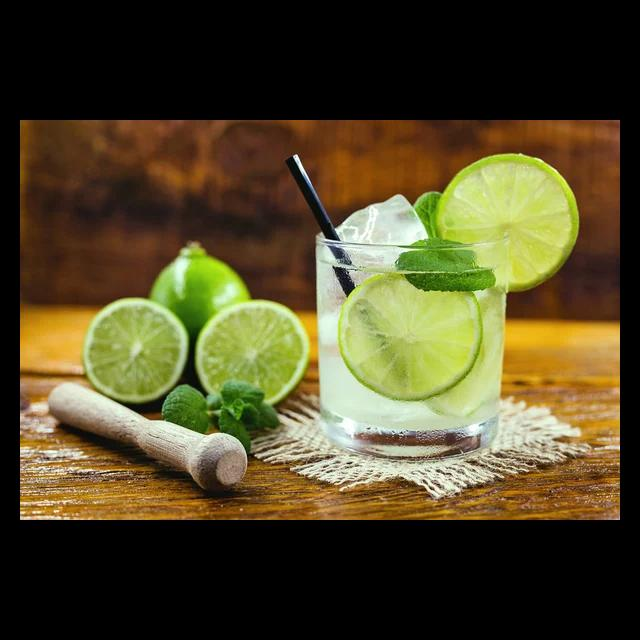lime: (146, 233, 261, 358)
